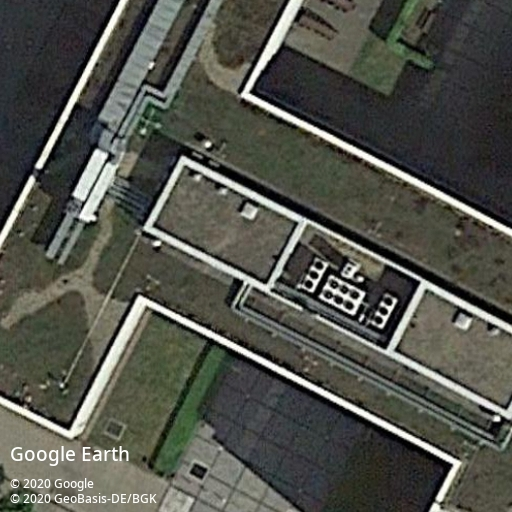Chiller: (318, 275, 366, 315), (369, 292, 398, 330), (299, 256, 329, 292)
